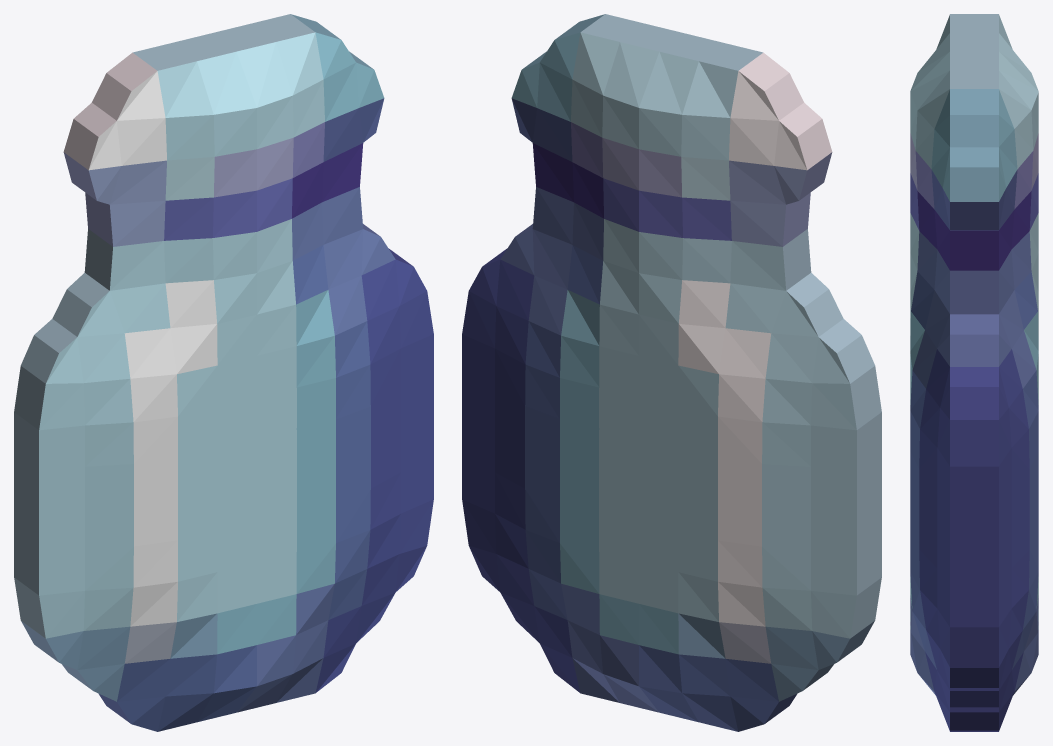
Rendered from crock.glb.
3 renders of one model, left to right at view 1: azimuth 30°, elevation 25°; view 2: azimuth 150°, elevation 25°; view 3: azimuth 270°, elevation 25°, orthographic. The views are drawn at different scales.
Visible parts, largest first — view 1: crock; view 2: crock; view 3: crock.
Part boxes in pixels (box(x1,y1,x2,y2)): crock: box(14, 14, 433, 731); crock: box(462, 14, 881, 731); crock: box(910, 14, 1038, 731).
Size of the model in its own units: 0.625 by 1 by 0.1813.
Materials: 1 (1 with a texture image).
